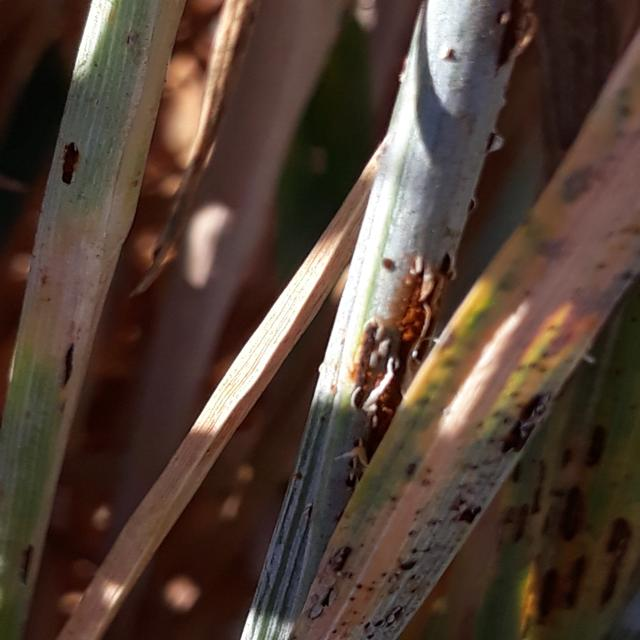black_stem_rust: (260, 6, 640, 640), (0, 0, 236, 640)
